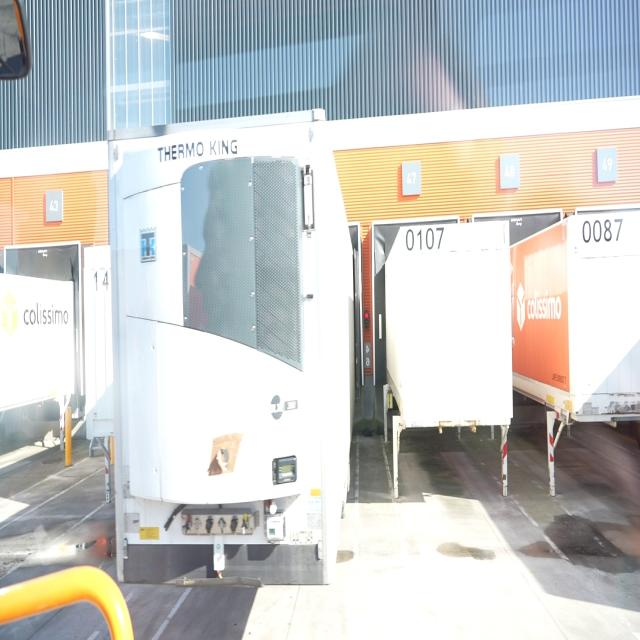Code: (401, 220, 448, 257), (580, 213, 626, 248)
